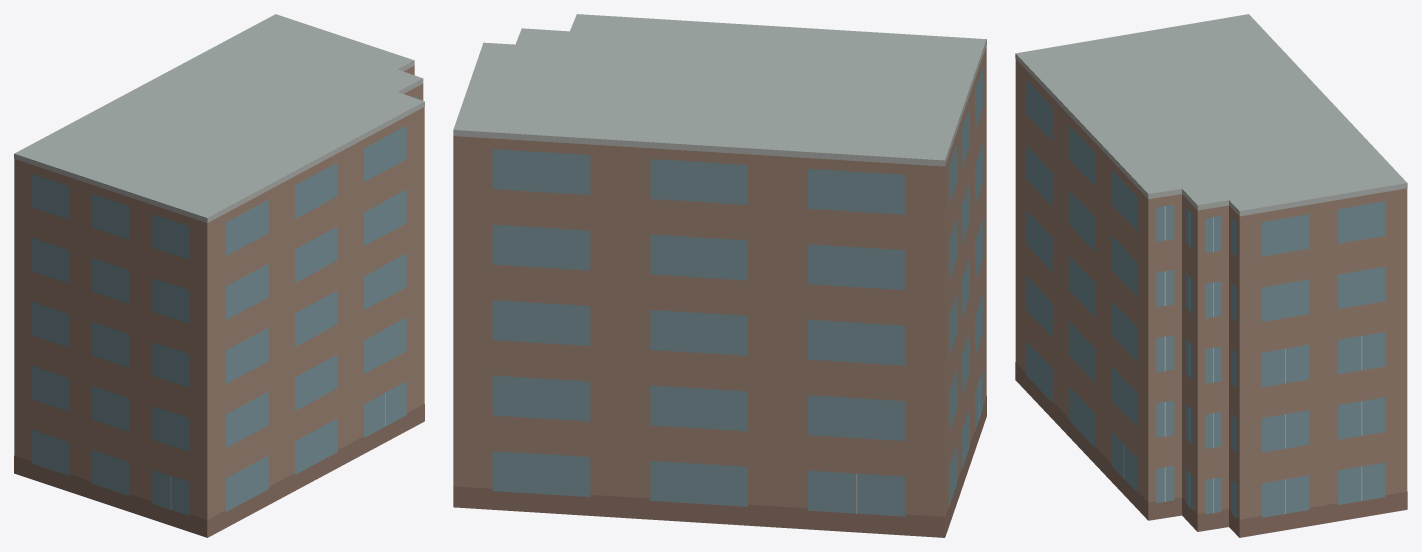
The model's file is survey-upis-32757836.glb.
3 views of the same model, side by side, from view 1: azimuth 30°, elevation 25°; view 2: azimuth 150°, elevation 25°; view 3: azimuth 270°, elevation 25° (orthographic). The views are drawn at different scales.
Visible parts, largest first — view 1: survey-upis-32757836.tmp; view 2: survey-upis-32757836.tmp; view 3: survey-upis-32757836.tmp.
Part boxes in pixels (x1,y1,x2,y2): survey-upis-32757836.tmp: [14, 14, 424, 537]; survey-upis-32757836.tmp: [453, 14, 986, 537]; survey-upis-32757836.tmp: [1015, 14, 1407, 537].
Size of the model in its own units: 19.76 by 15.25 by 16.6.
